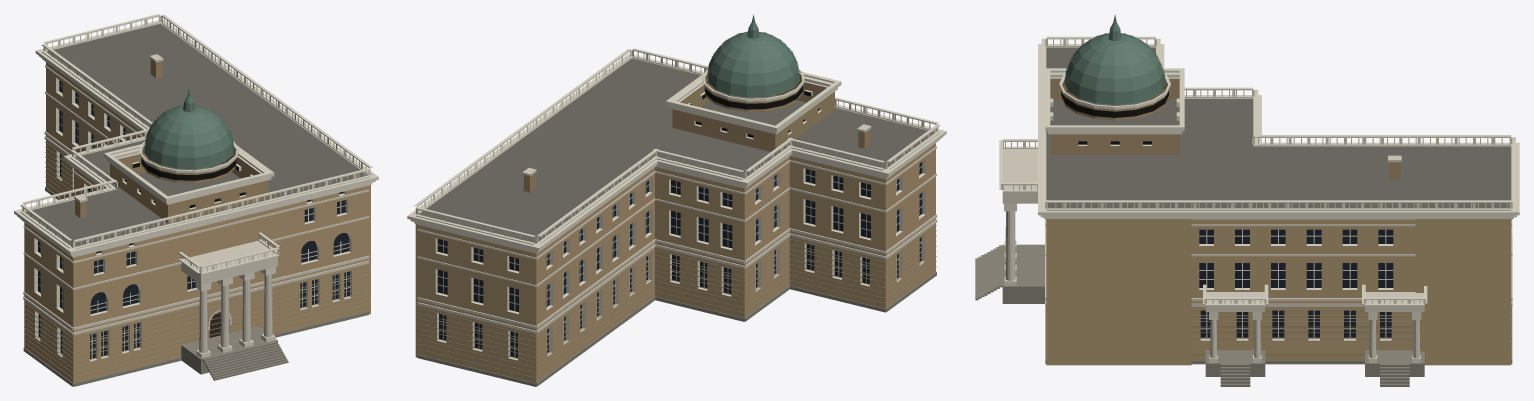
File: little-rock-city-hall-1913.glb
3 views of the same model, side by side, from view 1: azimuth 30°, elevation 25°; view 2: azimuth 150°, elevation 25°; view 3: azimuth 270°, elevation 25° (orthographic). The views are drawn at different scales.
Parts seen in each view (by area): view 1: little_brick, little_roof, little_trim, little_stone, little_copper, little_joint, little_brick2, little_glass, little_granite, little_base, little_sash, little_shadow; view 2: little_brick, little_roof, little_trim, little_stone, little_glass, little_joint, little_copper, little_brick2, little_granite, little_sash, little_shadow; view 3: little_brick, little_roof, little_trim, little_stone, little_copper, little_glass, little_granite, little_brick2, little_base, little_joint, little_sash, little_shadow.
Boxes of the visible parts, left/top/right/bottom form: little_brick: left=24, top=62, right=370, bottom=383; little_roof: left=25, top=23, right=367, bottom=247; little_trim: left=14, top=14, right=378, bottom=361; little_stone: left=23, top=54, right=369, bottom=352; little_copper: left=143, top=88, right=234, bottom=169; little_joint: left=24, top=142, right=368, bottom=378; little_brick2: left=75, top=59, right=268, bottom=222; little_glass: left=38, top=80, right=349, bottom=358; little_granite: left=23, top=187, right=368, bottom=386; little_base: left=202, top=341, right=288, bottom=380; little_sash: left=37, top=82, right=350, bottom=358; little_shadow: left=96, top=158, right=343, bottom=253; little_brick: left=415, top=143, right=935, bottom=383; little_roof: left=418, top=58, right=935, bottom=242; little_trim: left=407, top=48, right=946, bottom=360; little_stone: left=416, top=124, right=937, bottom=333; little_glass: left=437, top=162, right=922, bottom=357; little_joint: left=417, top=225, right=936, bottom=378; little_copper: left=706, top=14, right=800, bottom=97; little_brick2: left=523, top=73, right=870, bottom=192; little_granite: left=417, top=271, right=936, bottom=386; little_sash: left=437, top=164, right=922, bottom=358; little_shadow: left=690, top=85, right=819, bottom=137; little_brick: left=1046, top=219, right=1511, bottom=365; little_roof: left=1046, top=47, right=1511, bottom=208; little_trim: left=999, top=36, right=1519, bottom=363; little_stone: left=1002, top=149, right=1512, bottom=358; little_copper: left=1064, top=14, right=1166, bottom=105; little_glass: left=1199, top=229, right=1393, bottom=337; little_granite: left=1002, top=244, right=1512, bottom=376; little_brick2: left=1050, top=78, right=1400, bottom=179; little_base: left=975, top=245, right=1409, bottom=386; little_joint: left=1046, top=306, right=1511, bottom=355; little_sash: left=1199, top=229, right=1393, bottom=338; little_shadow: left=1061, top=91, right=1168, bottom=144.
Bounding box in the file's own units: 44.4 × 29.9 × 54.7.
